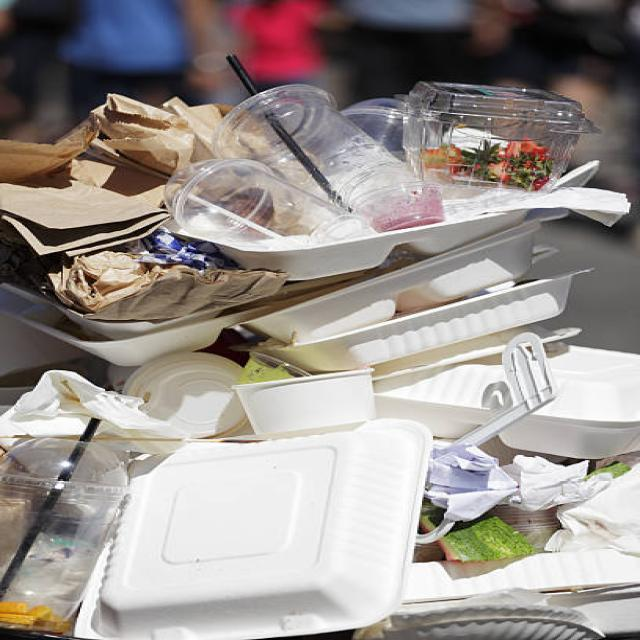paper: (2, 104, 174, 306), (434, 440, 608, 532)
plastic: (8, 375, 401, 633), (182, 70, 640, 232), (248, 265, 596, 327)
